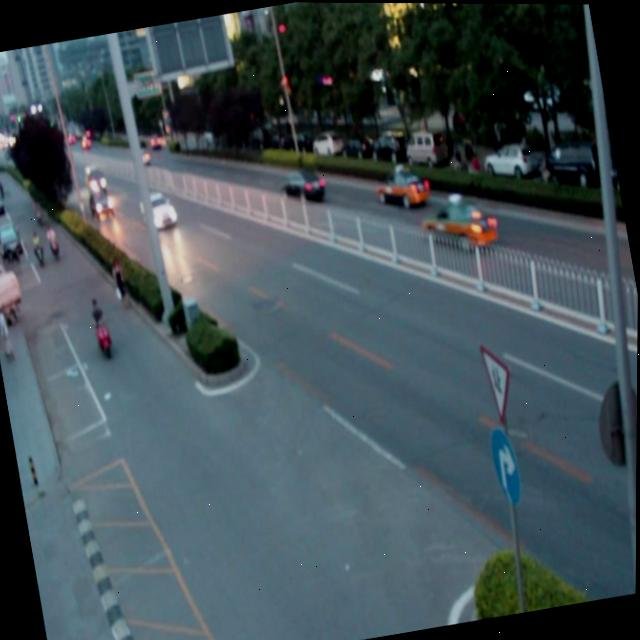car: (420, 191, 500, 258), (372, 162, 429, 212), (276, 163, 325, 207), (140, 187, 176, 229), (87, 188, 113, 216)
